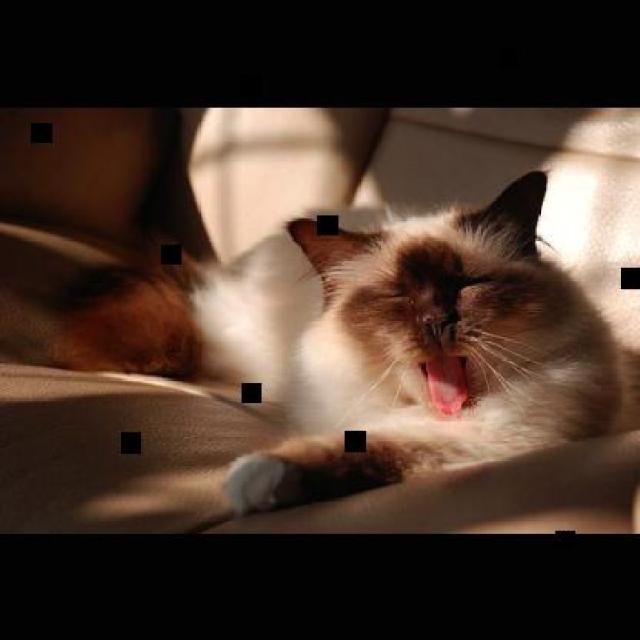unauthorized: (44, 168, 638, 515)
